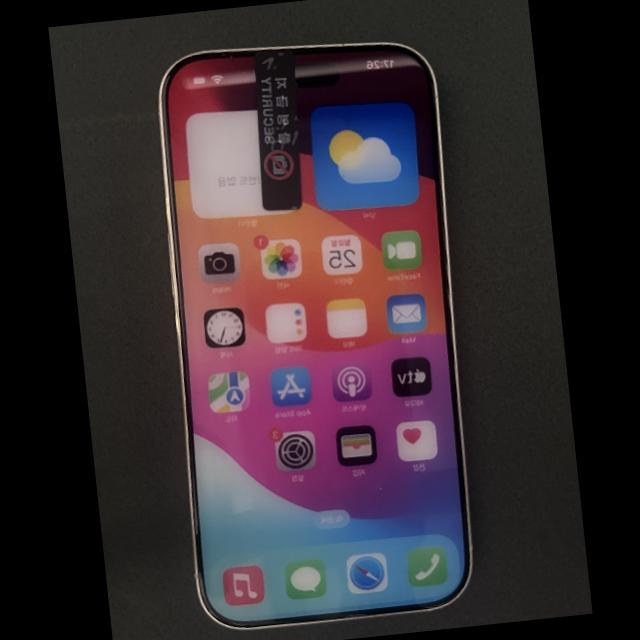phone: (156, 40, 473, 631)
sticker: (253, 50, 303, 211)
